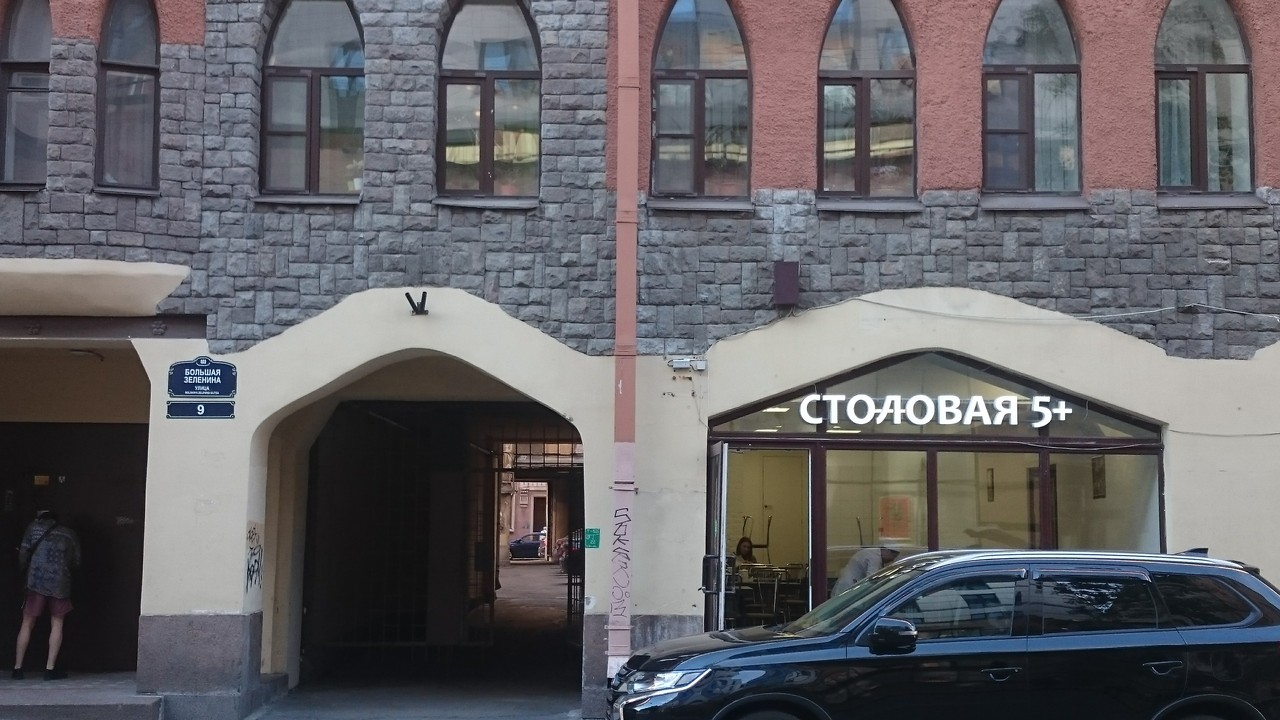arch: (236, 343, 587, 710)
signboard: (801, 392, 1067, 429)
window: (647, 1, 755, 204), (434, 1, 543, 202), (263, 1, 369, 200), (815, 1, 921, 197), (982, 1, 1082, 201), (1159, 1, 1258, 202), (93, 2, 157, 187), (1, 1, 52, 187)
